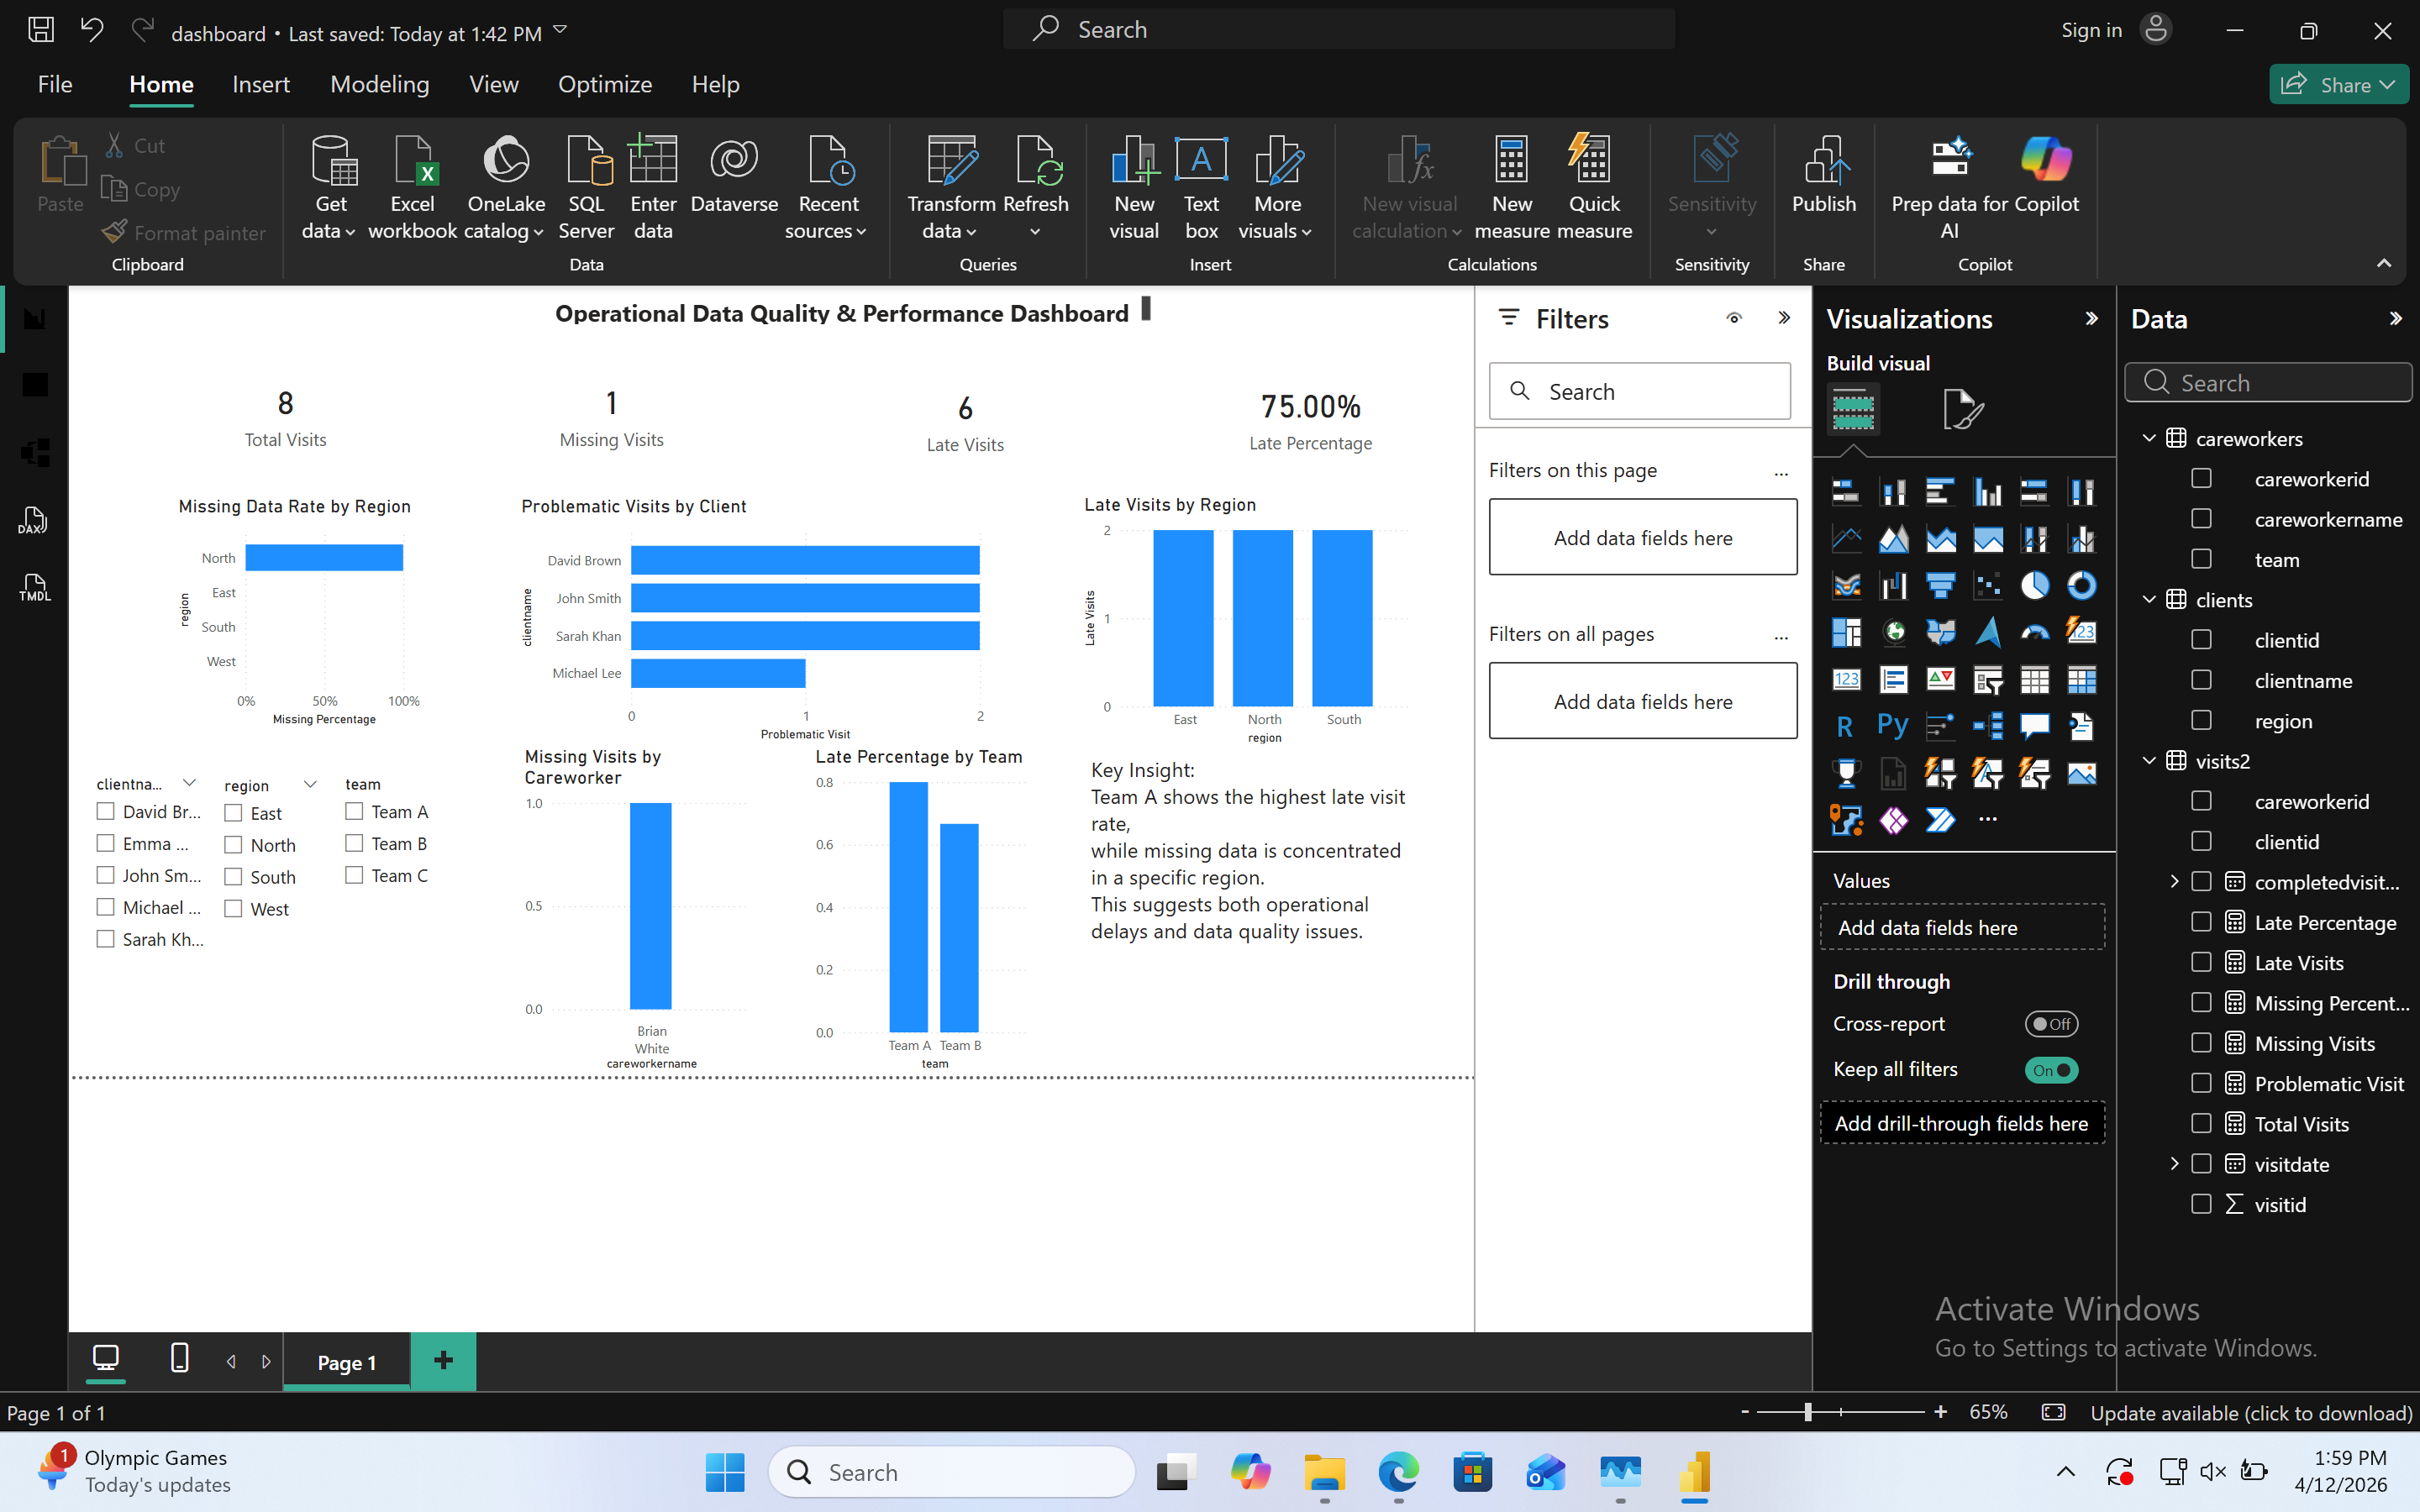

What the dashboard file says about the page in this screenshot:
{"tool":"powerbi","page":{"name":"Page 1","canvas":[1280,720],"ordinal":0},"visuals":[{"type":"card","fields":{"Values":["visits2.Total Visits"]},"box":[94.9,15.3,205.2,200.6],"z":0},{"type":"card","fields":{"Values":["visits2.Late Visits"]},"box":[688,18.4,258.8,203.6],"z":1000},{"type":"clusteredColumnChart","title":"Late Visits by Region","fields":{"Category":["clients.region"],"Y":["visits2.Late Visits"]},"box":[920.2,189.9,304.7,232.7],"z":2000},{"type":"hundredPercentStackedBarChart","title":"Missing Data Rate by Region","fields":{"Y":["visits2.Missing Percentage"],"Category":["clients.region"]},"box":[94.9,191.4,229.7,214.4],"z":3000},{"type":"clusteredBarChart","title":"Problematic Visits by Client","fields":{"Y":["visits2.Problematic Visit"],"Category":["clients.clientname"]},"box":[406.5,191.4,431.8,228.1],"z":4000},{"type":"columnChart","title":"Missing Visits by Careworker","fields":{"Y":["visits2.Missing Visits"],"Category":["careworkers.careworkername"]},"box":[410.3,419.5,215.9,300.1],"z":5000},{"type":"slicer","fields":{"Values":["clients.region"]},"box":[128.6,442.5,110.2,209.8],"z":6000},{"type":"slicer","fields":{"Values":["clients.clientname"]},"box":[12.2,441,116.4,264.9],"z":7000},{"type":"card","fields":{"Values":["visits2.Late Percentage"]},"box":[1038.1,45.9,186.8,145.5],"z":8000},{"type":"card","fields":{"Values":["visits2.Missing Visits"]},"box":[391.5,45.9,205.2,139.3],"z":9000},{"type":"columnChart","title":"Late Percentage by Team","fields":{"Y":["visits2.Late Percentage"],"Category":["careworkers.team"]},"box":[675.2,419.5,202.1,300.1],"z":10000},{"type":"slicer","fields":{"Values":["careworkers.team"]},"box":[238.9,441,125.6,209.8],"z":11000},{"type":"textbox","box":[437.9,4.6,552.7,35.2],"z":12000},{"type":"textbox","box":[926.3,422.6,298.6,228.1],"z":13000}]}

Visuals, with their boxes on the page's 1280x720 design canvas (x1, y1, x2, y2). These are canvas units, not pixel positions in the 2420x1512 screenshot, which may show the page scaled, cropped or inside an application window:
card - visits2.Total Visits: bbox(95, 15, 300, 216)
card - visits2.Late Visits: bbox(688, 18, 947, 222)
"Late Visits by Region" clusteredColumnChart: bbox(920, 190, 1225, 423)
"Missing Data Rate by Region" hundredPercentStackedBarChart: bbox(95, 191, 325, 406)
"Problematic Visits by Client" clusteredBarChart: bbox(406, 191, 838, 420)
"Missing Visits by Careworker" columnChart: bbox(410, 420, 626, 720)
slicer - clients.region: bbox(129, 442, 239, 652)
slicer - clients.clientname: bbox(12, 441, 129, 706)
card - visits2.Late Percentage: bbox(1038, 46, 1225, 191)
card - visits2.Missing Visits: bbox(392, 46, 597, 185)
"Late Percentage by Team" columnChart: bbox(675, 420, 877, 720)
slicer - careworkers.team: bbox(239, 441, 364, 651)
textbox: bbox(438, 5, 991, 40)
textbox: bbox(926, 423, 1225, 651)
